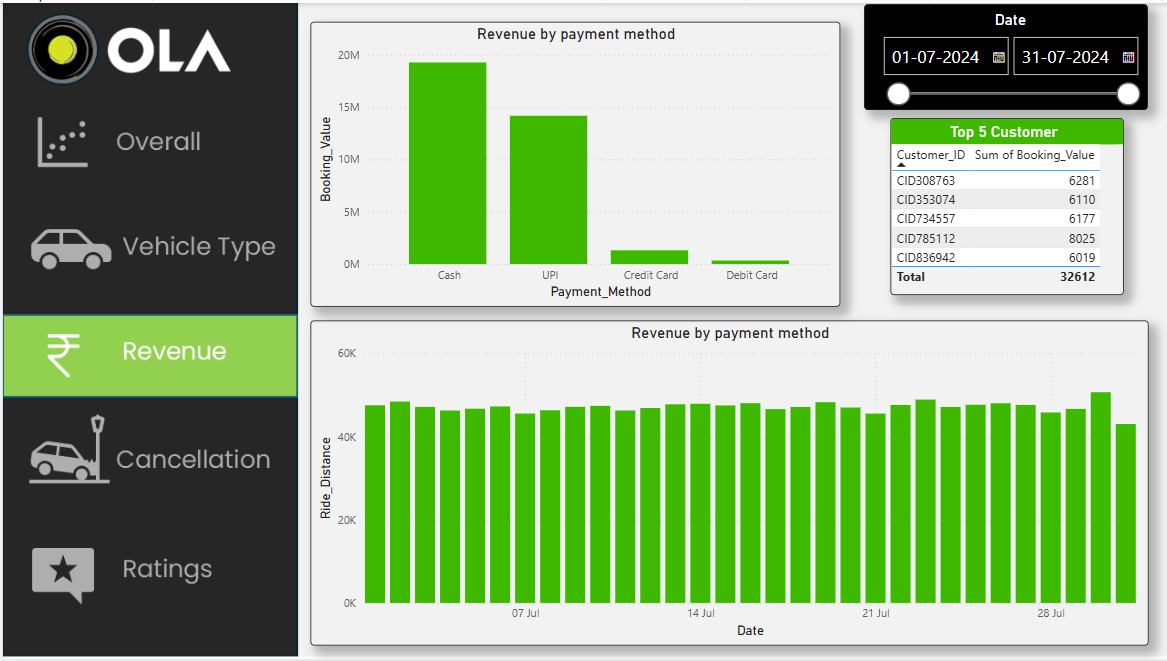

The page's visual inventory and layout, read from the dashboard file:
{"tool":"powerbi","page":{"name":"Revenue","canvas":[1280,720],"ordinal":2},"visuals":[{"type":"actionButton","box":[0,223.2,325.7,89.3],"z":0},{"type":"actionButton","box":[0,460.9,325.7,89.3],"z":1000},{"type":"actionButton","box":[0,579.1,325.7,89.3],"z":2000},{"type":"actionButton","box":[0,114.6,325.7,89.3],"z":3000},{"type":"columnChart","title":"Revenue by payment method","fields":{"Category":["July.Payment_Method"],"Y":["Sum(July.Booking_Value)"]},"box":[337.1,20,581.4,312.9],"z":4000},{"type":"columnChart","title":"Revenue by payment method","fields":{"Y":["Sum(July.Ride_Distance)"],"Category":["July.Date"]},"box":[337.1,348.6,920,357.1],"z":5000},{"type":"slicer","title":"Date","fields":{"Values":["July.Date"]},"box":[945.7,1.4,311.4,115.7],"z":6000},{"type":"tableEx","title":"Top 5 Customer","fields":{"Values":["July.Customer_ID","Sum(July.Booking_Value)"]},"box":[974.3,125.7,255.7,194.3],"z":7000}]}

Visuals, with their boxes in screenshot pixels (x1, y1, x2, y2), scaled from the page's 1280x720 canvas onto the 1167x661 screenshot:
actionButton: <box>0,205,297,287</box>
actionButton: <box>0,423,297,505</box>
actionButton: <box>0,532,297,614</box>
actionButton: <box>0,105,297,187</box>
"Revenue by payment method" columnChart: <box>307,18,837,306</box>
"Revenue by payment method" columnChart: <box>307,320,1146,648</box>
"Date" slicer: <box>862,1,1146,108</box>
"Top 5 Customer" tableEx: <box>888,115,1121,294</box>
